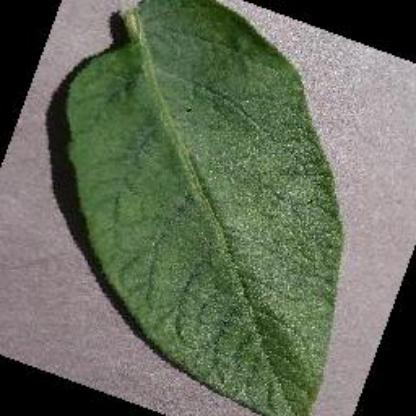Healthy-plant: (22, 0, 380, 416)
